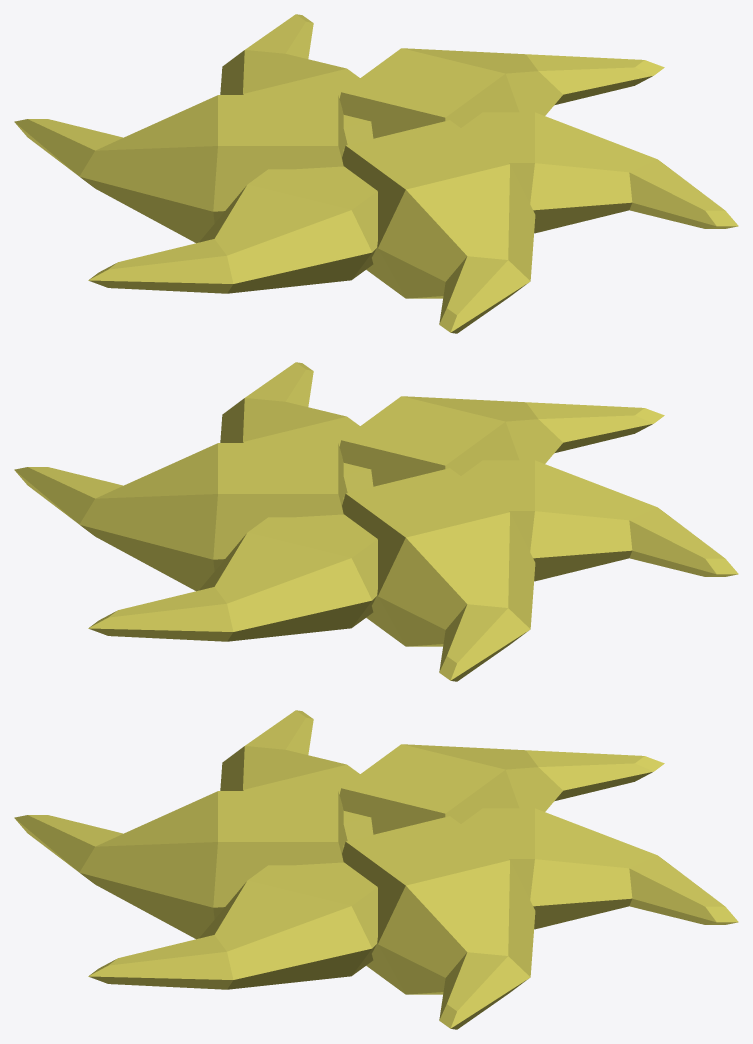
Rendered from StarFbx.fbx.
3 renders of one model, top to bottom at view 1: azimuth 30°, elevation 25°; view 2: azimuth 150°, elevation 25°; view 3: azimuth 270°, elevation 25°, orthographic.
Visible parts, largest first — view 1: star; view 2: star; view 3: star.
Part boxes in pixels (x1,y1,x2,y2): star: (14,14,738,333); star: (14,362,738,681); star: (14,710,738,1029).
Size of the model in its own units: 20.6 by 3.3 by 19.87.
